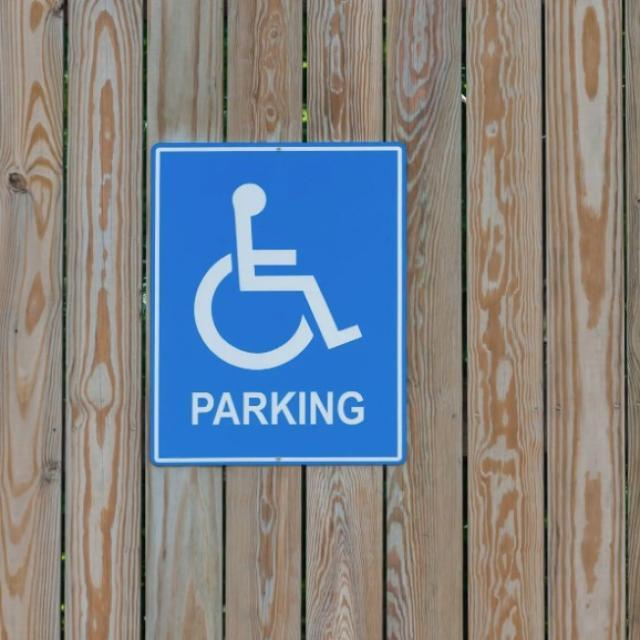symbol_of_access: (147, 139, 407, 466)
